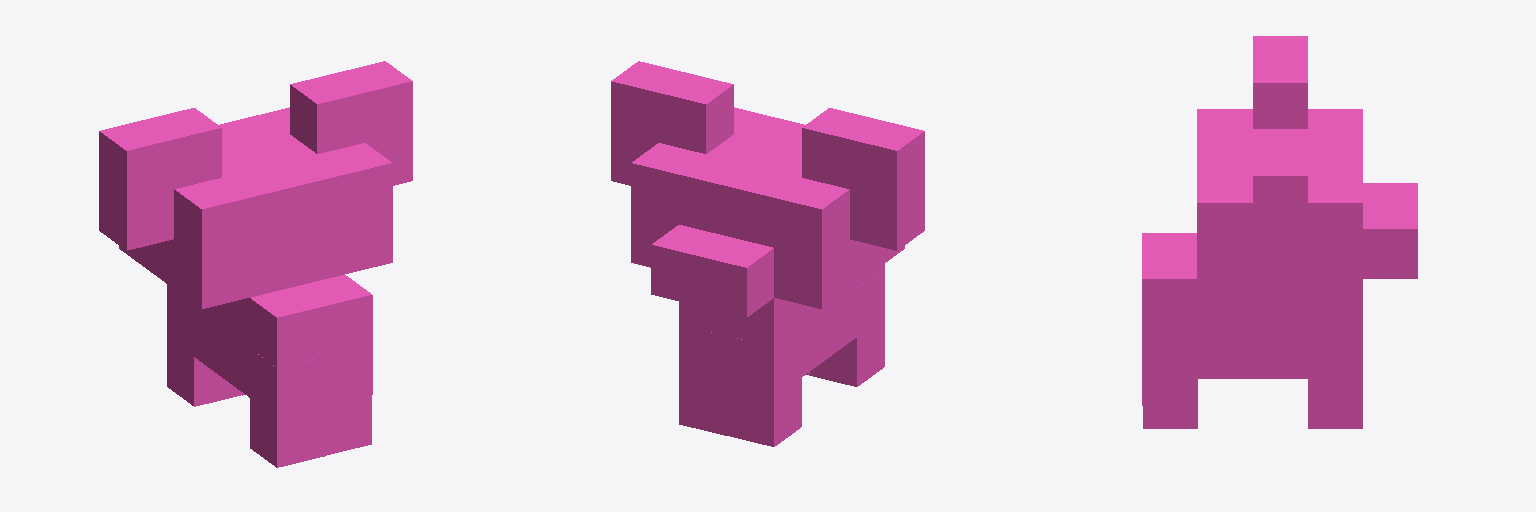
The picture shows the model from 3 angles: view 1: azimuth 30°, elevation 25°; view 2: azimuth 150°, elevation 25°; view 3: azimuth 270°, elevation 25°; orthographic projection.
Parts seen in each view (by area): view 1: Model; view 2: Model; view 3: Model.
Part boxes in pixels (x1,y1,x2,y2): Model: (99, 61, 412, 467); Model: (611, 61, 924, 446); Model: (1142, 36, 1417, 428).
Bounding box in the file's own units: 6 × 6.01 × 5.
Materials: 1 (1 with a texture image).